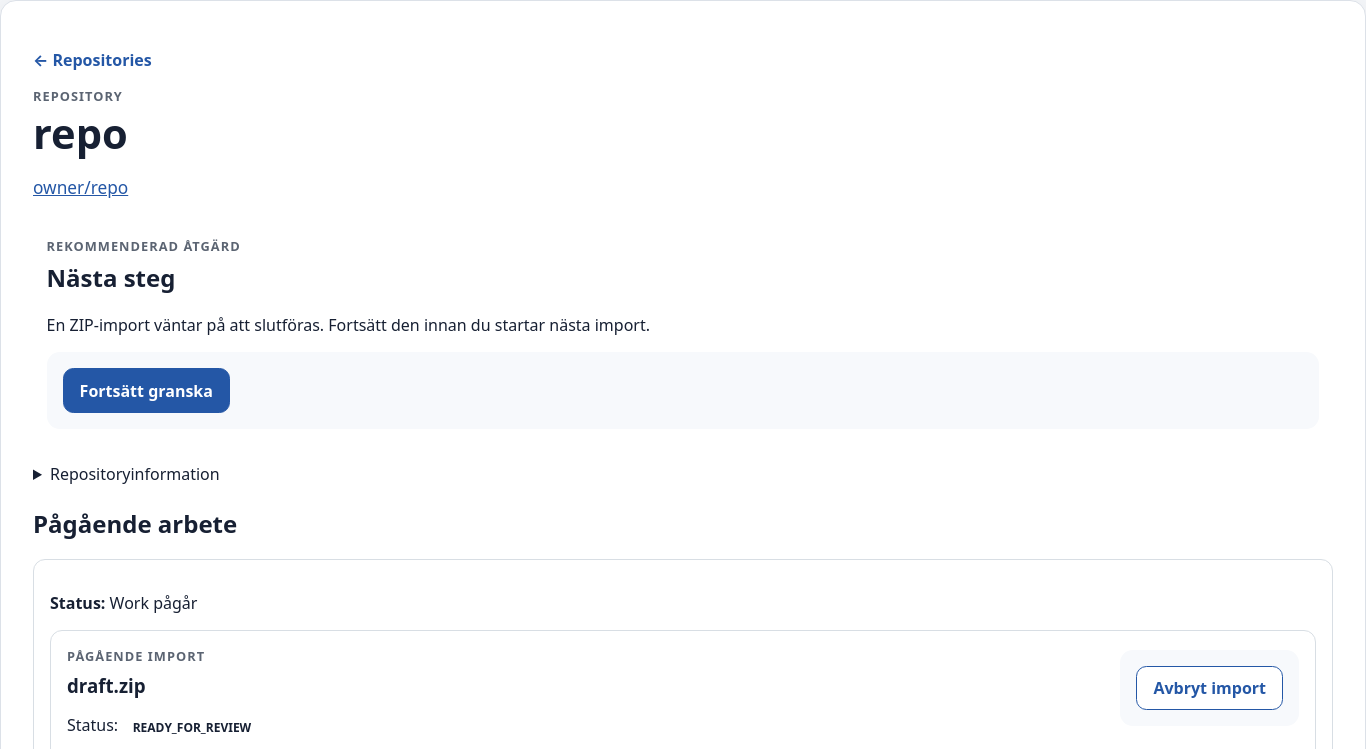
ProjectDetailPage cancellation lifecycle › cancels the active import and exposes exactly one next-ZIP action afterwards
expect the link "Fortsätt granska" is shown: met, box x1=63 y1=368 x2=230 y2=413
expect the link "Ladda upp nästa ZIP" is not shown: met
Click the button "Avbryt import" at (1210, 688), box x1=1136 y1=666 x2=1283 y2=710
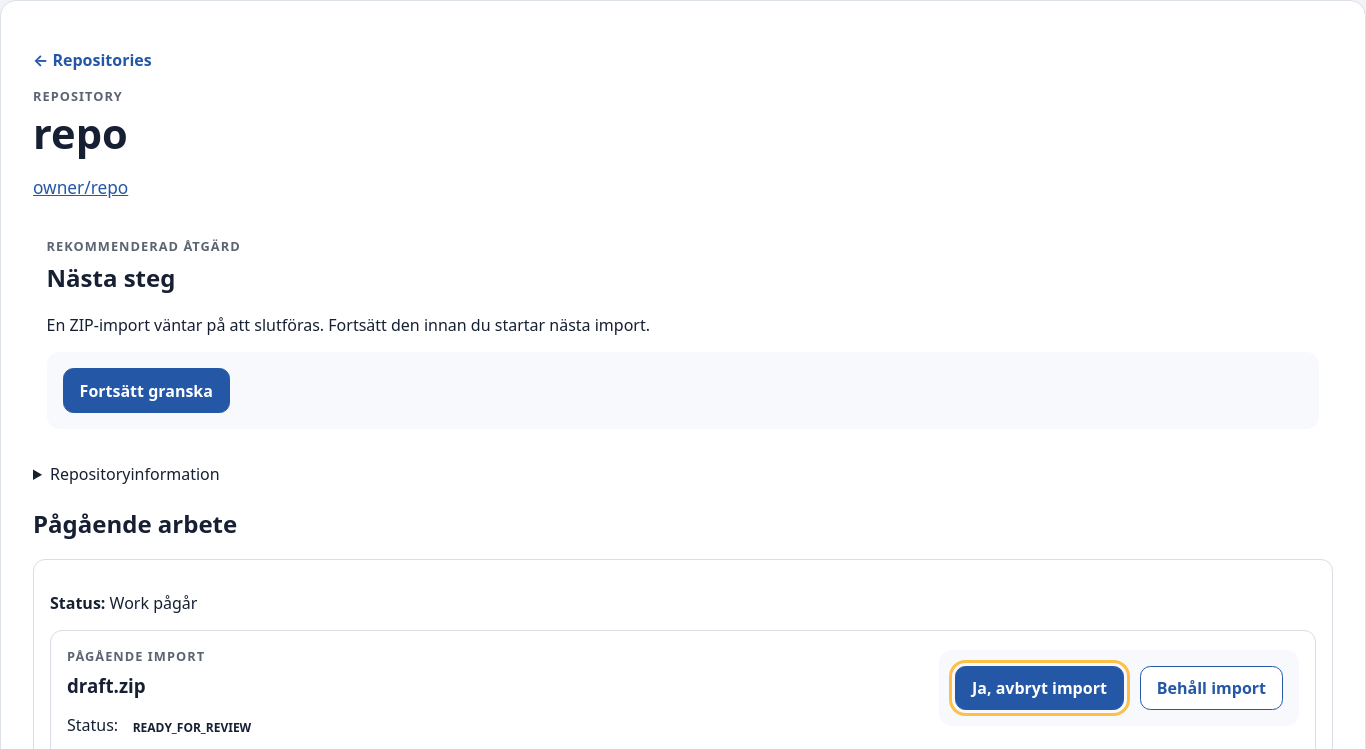
Click the button "Ja, avbryt import" at (1039, 688), box x1=955 y1=666 x2=1124 y2=710
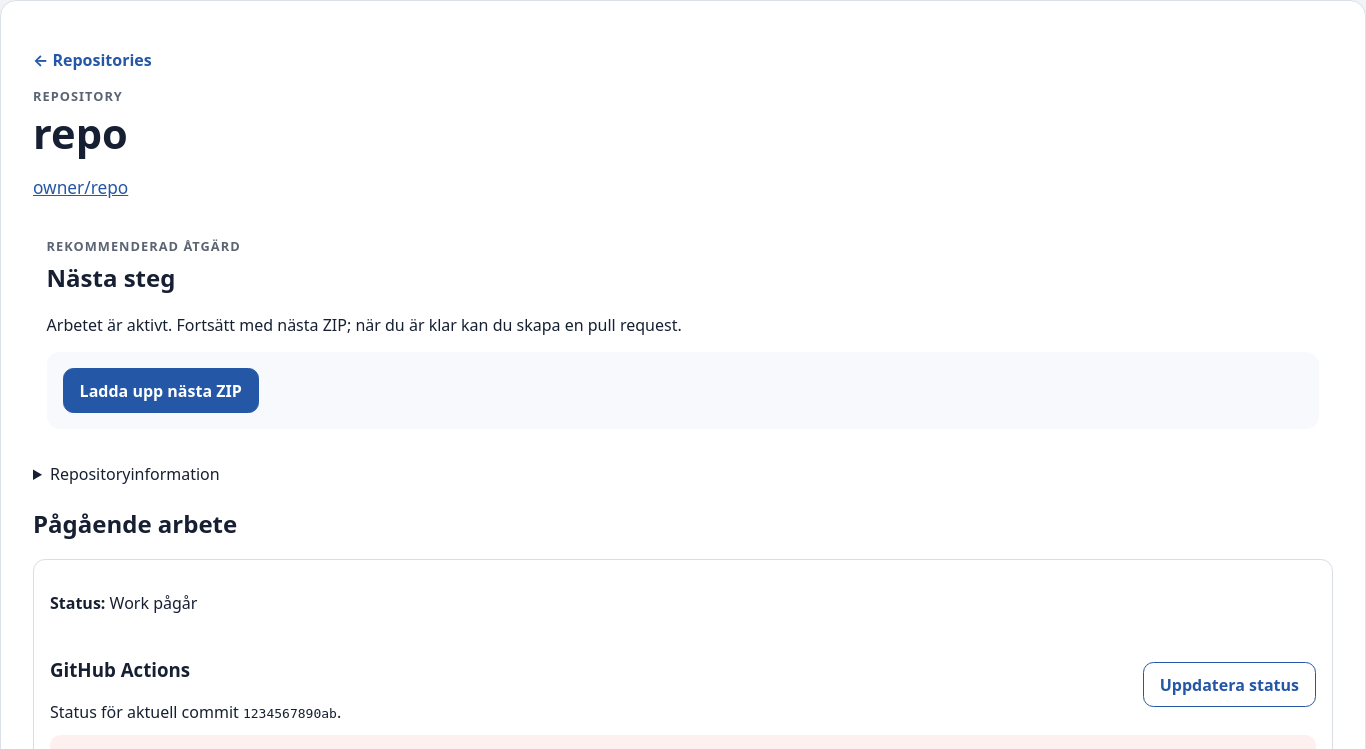
expect the number of links "Ladda upp nästa ZIP" is 1: met, box x1=63 y1=368 x2=259 y2=413
expect the link "Fortsätt granska" is gone: met
